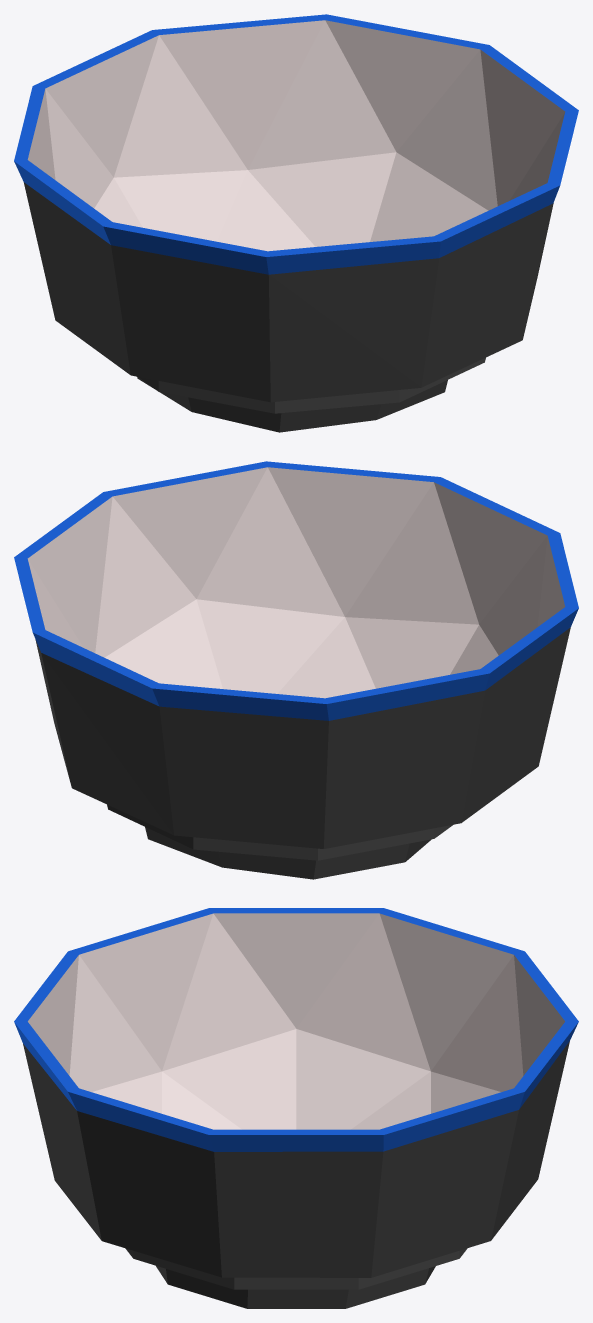
Rendered from bowl.fbx.
3 views of the same model, one above another, from view 1: azimuth 30°, elevation 25°; view 2: azimuth 150°, elevation 25°; view 3: azimuth 270°, elevation 25° (orthographic). The views are drawn at different scales.
Parts seen in each view (by area): view 1: Icosphere; view 2: Icosphere; view 3: Icosphere.
Part boxes in pixels (bbox=[...]): Icosphere: bbox=[14, 14, 578, 432]; Icosphere: bbox=[14, 461, 578, 879]; Icosphere: bbox=[14, 908, 578, 1308].
Size of the model in its own units: 200 by 101 by 210.
